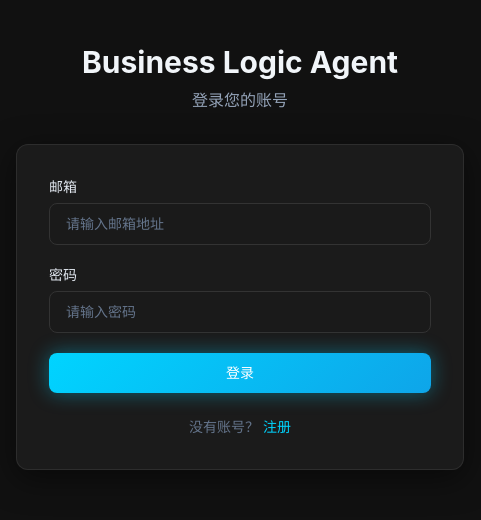
Scenario: LoginPage › 空邮箱提交应显示错误
The width and height of the screenshot is (481, 520).
Step 1. Click the button "登录" → point(240, 373), box 49,353 -> 431,393
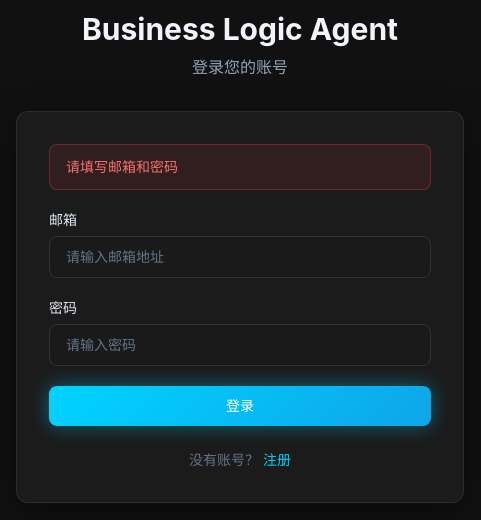
Expected: the text "请填写邮箱和密码" is shown, 49,144 -> 431,190
